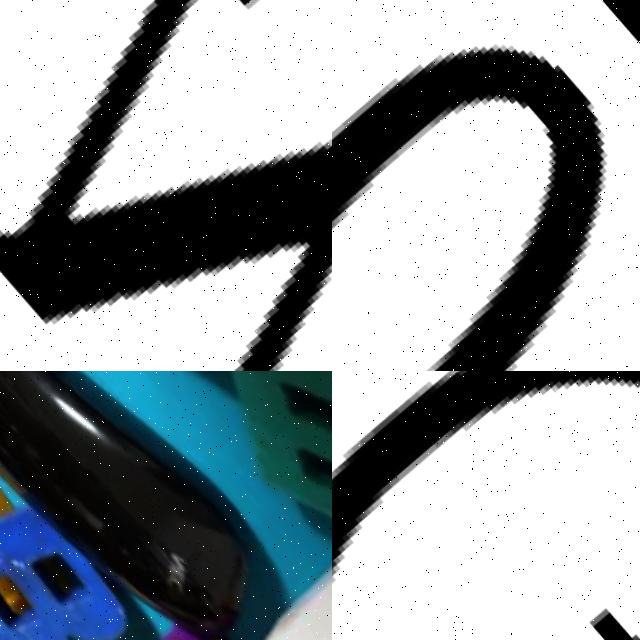0: (332, 0, 640, 371)
B: (0, 452, 156, 640)
G: (332, 371, 640, 640)
H: (208, 509, 332, 640)
M: (140, 371, 332, 640)
N: (0, 0, 332, 371)
